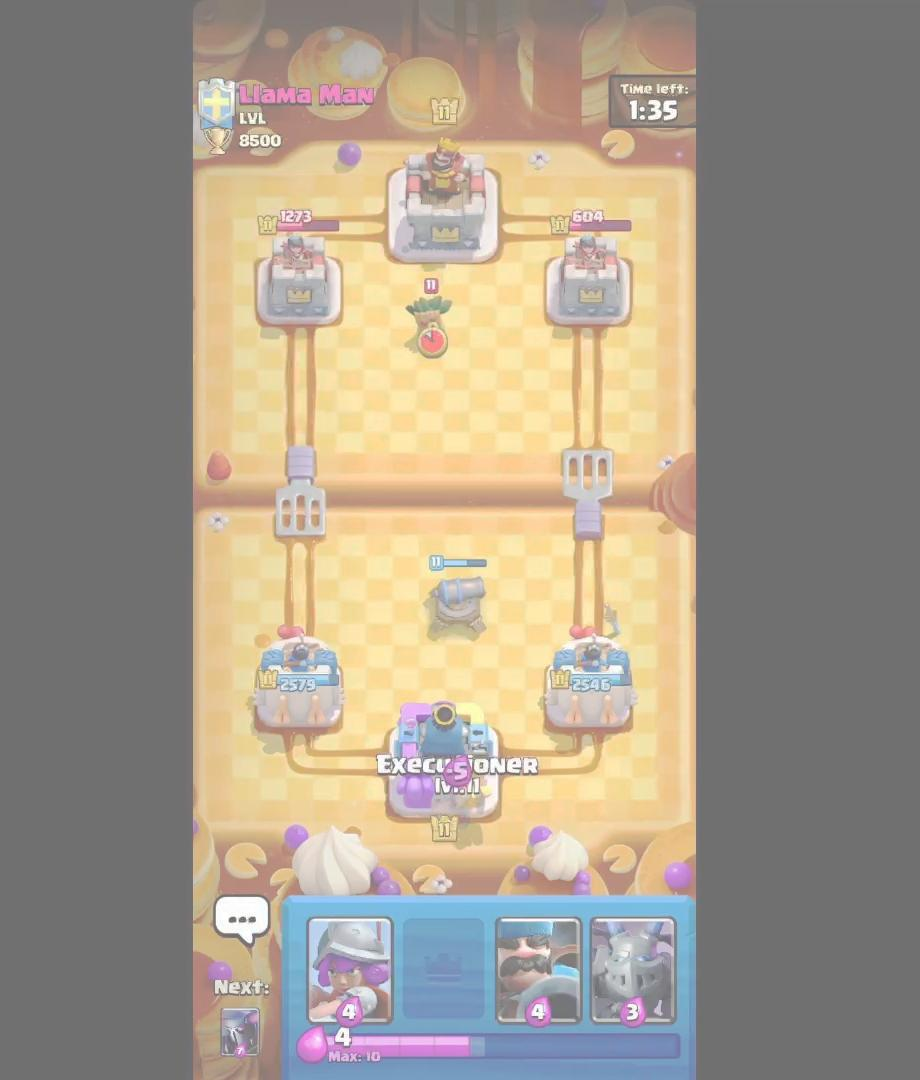Dart Goblin: (399, 278, 463, 358)
